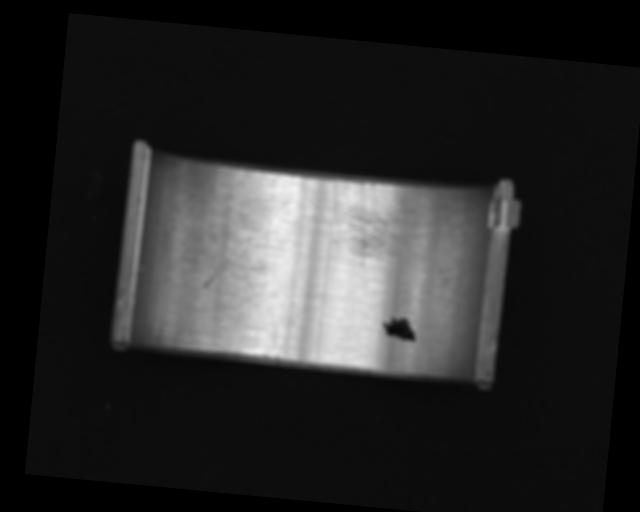blot: (379, 315, 418, 343)
nick: (200, 232, 249, 292)
scratch: (326, 174, 450, 274)
